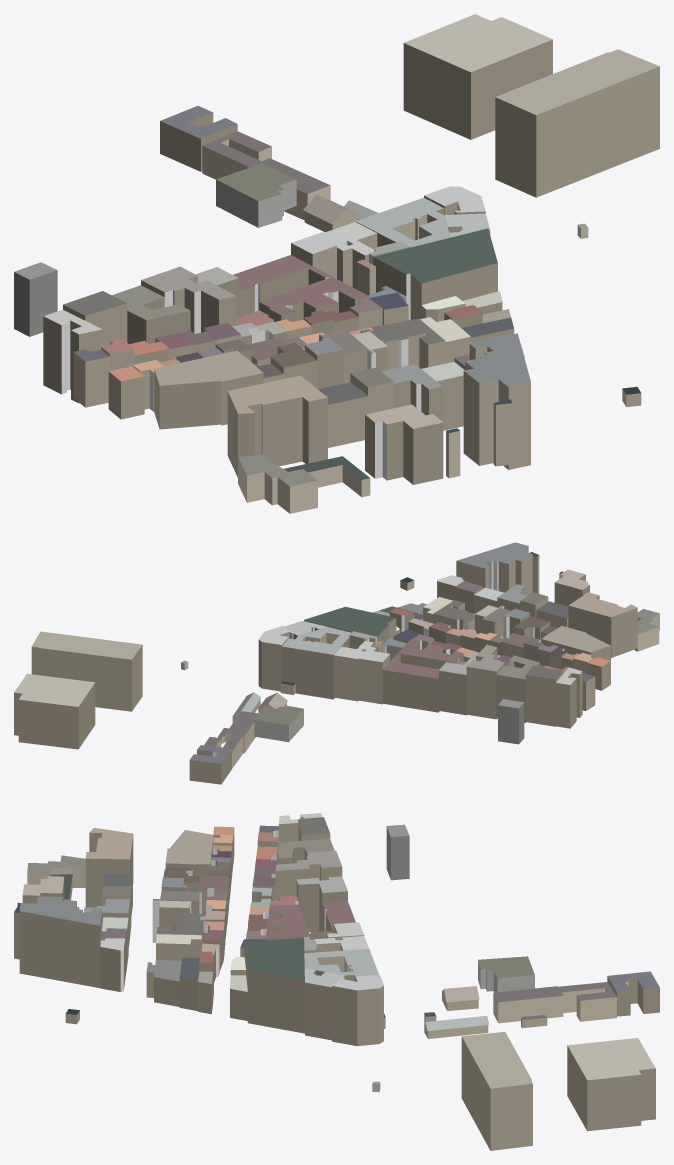
The picture shows the model from 3 angles, top to bottom: view 1: azimuth 30°, elevation 25°; view 2: azimuth 150°, elevation 25°; view 3: azimuth 270°, elevation 25°; orthographic projection. The views are drawn at different scales.
Parts seen in each view (by area): view 1: tuile; view 2: tuile; view 3: tuile.
Boxes of the visible parts, x1,y1,x2,y2 form: tuile: (14,14,659,513); tuile: (14,542,659,784); tuile: (14,813,659,1150).
Bounding box in the file's own units: 246 × 33.18 × 250.
